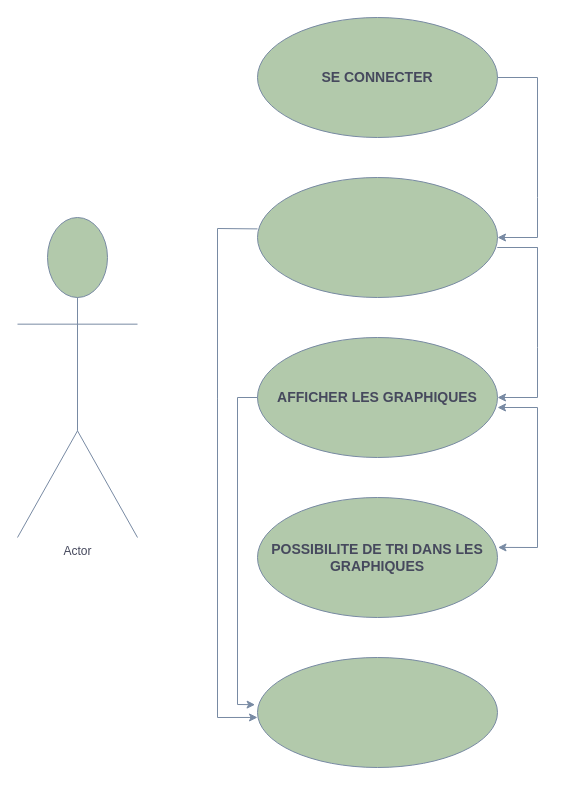
The diagram is 564 pixels wide and 785 high, and some of its shapes have lost their labels. The centre of each missing label's shape, as x and y in pixels:
AFFICHER LE PROFIL: (x=377, y=237)
SE DECONNECTER: (x=377, y=712)
